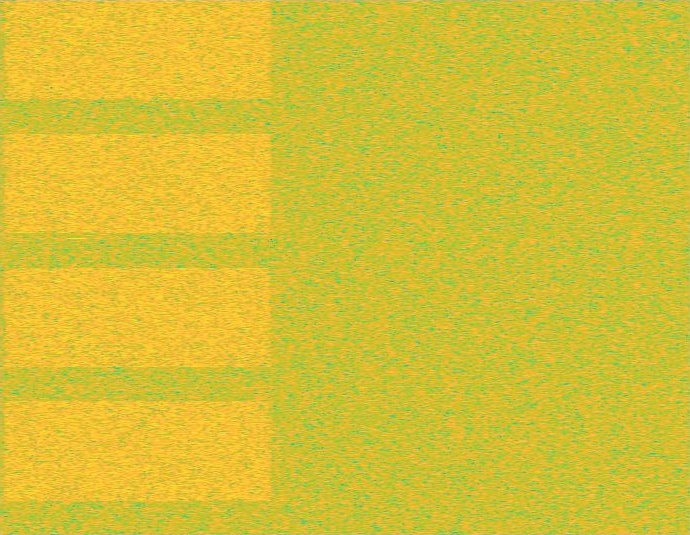5G: (0, 0, 276, 534)
Radar: (69, 0, 83, 534)
